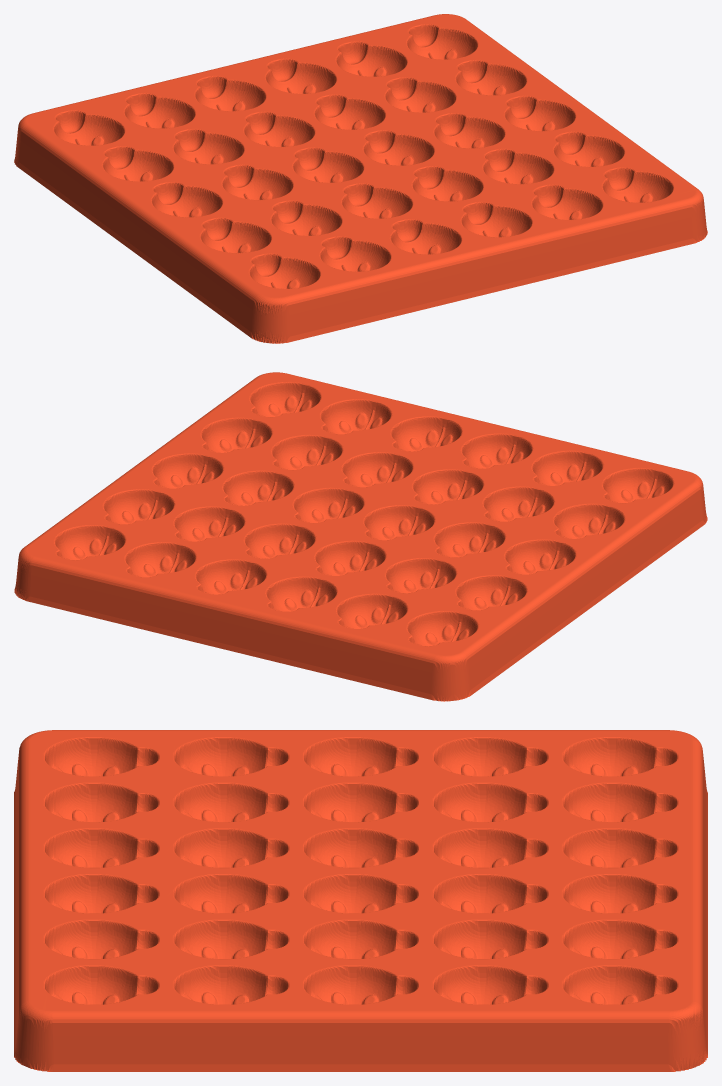
File: mold.glb
3 views of the same model, one above another, from view 1: azimuth 30°, elevation 25°; view 2: azimuth 150°, elevation 25°; view 3: azimuth 270°, elevation 25° (orthographic). The views are drawn at different scales.
Visible parts, largest first — view 1: geometry_0; view 2: geometry_0; view 3: geometry_0.
Part boxes in pixels (x1,y1,x2,y2): geometry_0: (14, 14, 707, 343); geometry_0: (14, 372, 707, 701); geometry_0: (14, 730, 707, 1071).
Size of the model in its own units: 0.1581 by 0.0136 by 0.1581.
